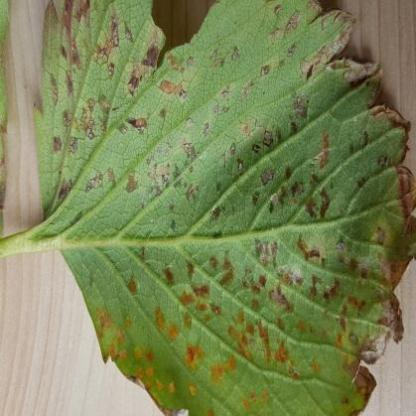Strawberry_Angular_LeafSpot: (32, 0, 416, 415)
